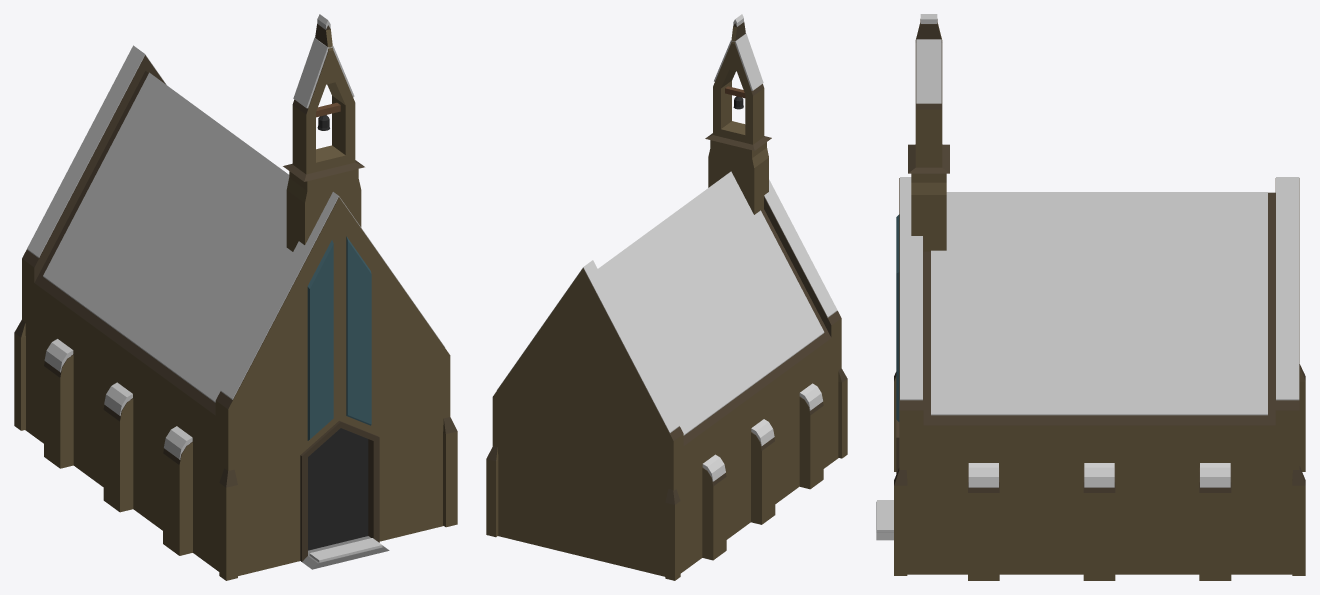
File: Church_snow_mat.fbx
The picture shows the model from 3 angles, left to right: view 1: azimuth 30°, elevation 25°; view 2: azimuth 150°, elevation 25°; view 3: azimuth 270°, elevation 25°; orthographic projection. The views are drawn at different scales.
Visible parts, largest first — view 1: Church_snow_mat; view 2: Church_snow_mat; view 3: Church_snow_mat.
Part boxes in pixels (bbox=[...]): Church_snow_mat: bbox=[14, 14, 457, 580]; Church_snow_mat: bbox=[486, 14, 847, 580]; Church_snow_mat: bbox=[876, 14, 1305, 580].
Bounding box in the file's own units: 448 × 899 × 688.
